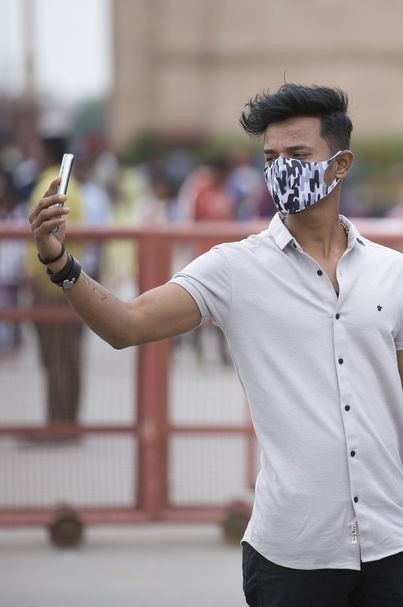with_mask: (250, 105, 351, 219)
